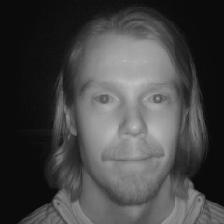happy: (51, 14, 218, 209)
